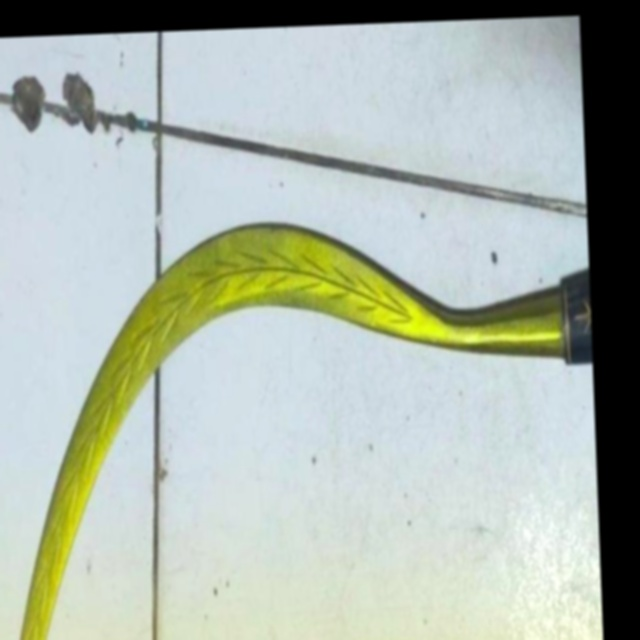Sharp-Object: (0, 208, 598, 640)
